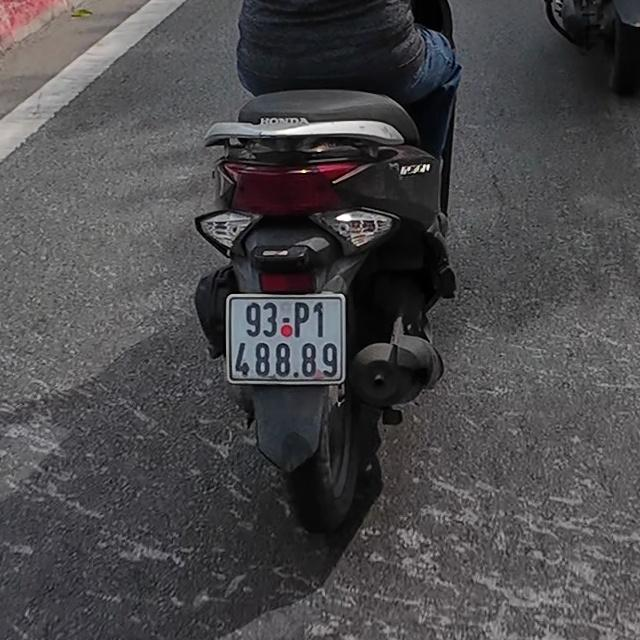license-plate: (226, 295, 347, 386)
